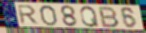6: (121, 6, 138, 29)
8: (60, 5, 79, 28)
B: (98, 6, 121, 28)
O: (39, 5, 59, 27)
Q: (79, 6, 100, 28)
R: (17, 5, 40, 25)
